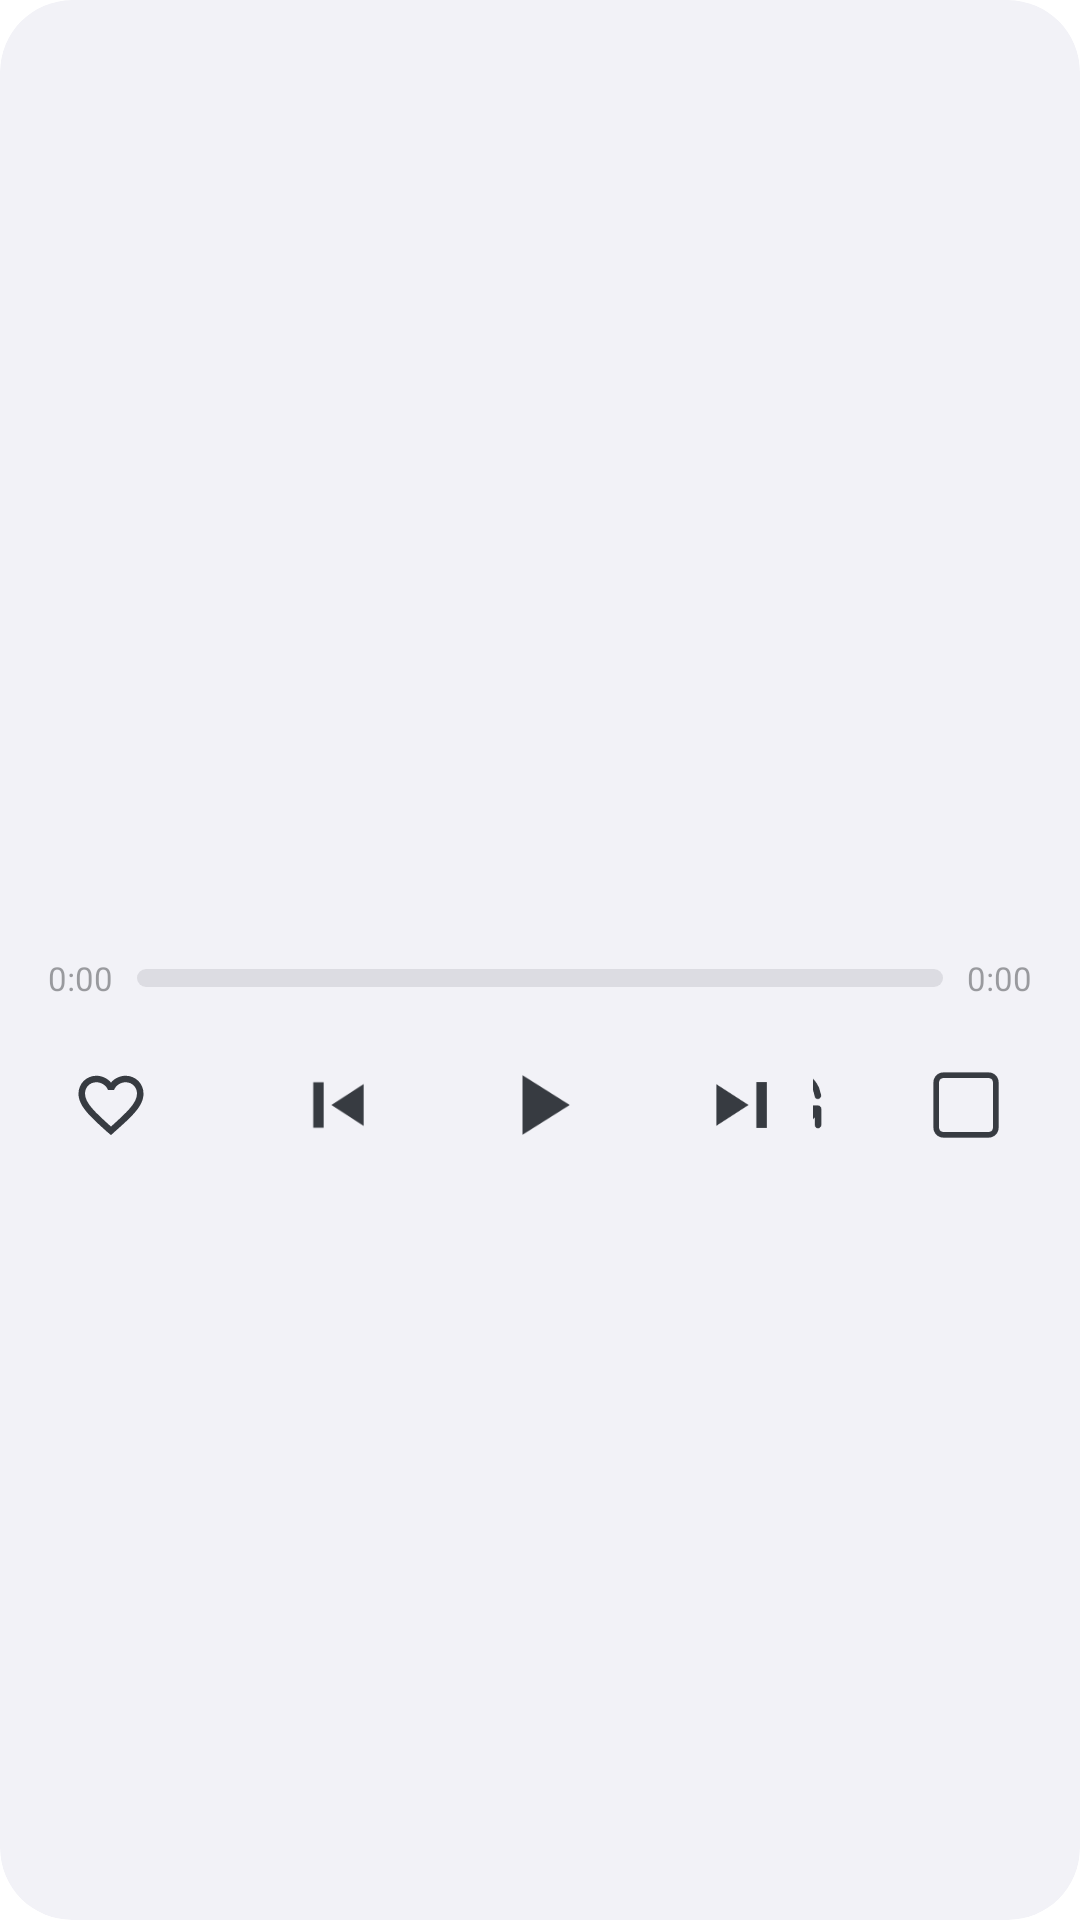

Point at icon controls on the screen. Image size 1080w x 1920h, points as point (x, y).
notif favorite: point (111, 1105)
play: point (546, 1105)
skip next: point (741, 1105)
skip previous: point (338, 1105)
